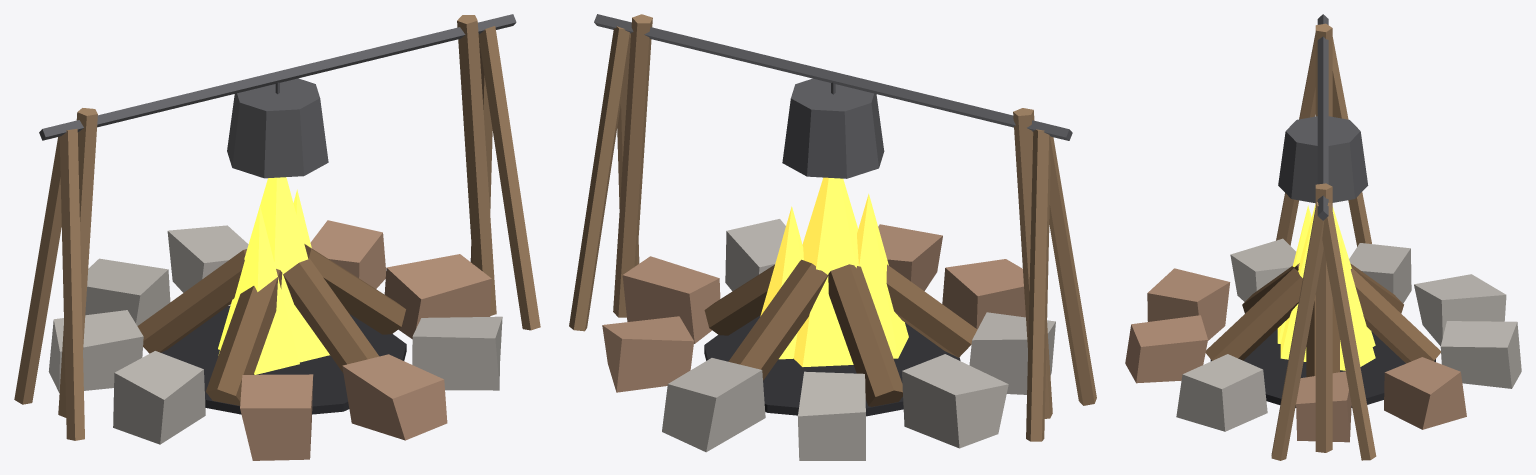
File: SM_Campfire.glb
3 views of the same model, side by side, from view 1: azimuth 30°, elevation 25°; view 2: azimuth 150°, elevation 25°; view 3: azimuth 270°, elevation 25° (orthographic). The views are drawn at different scales.
Parts seen in each view (by area): view 1: SM_Campfire; view 2: SM_Campfire; view 3: SM_Campfire.
Boxes of the visible parts, x1=… form: SM_Campfire: x1=14, y1=14, x2=540, y2=460; SM_Campfire: x1=569, y1=14, x2=1096, y2=460; SM_Campfire: x1=1125, y1=14, x2=1521, y2=460.
Size of the model in its own units: 1.24 by 0.765 by 1.06.
